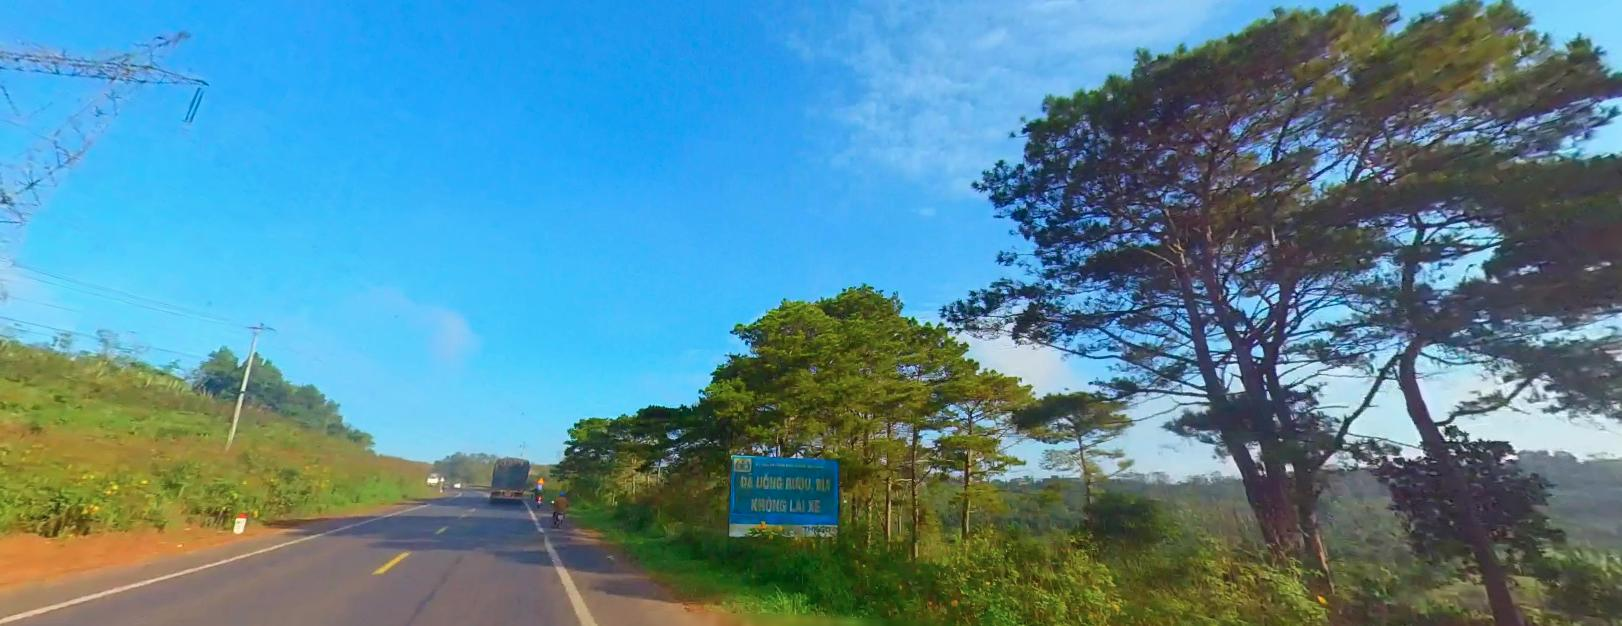Nguy hiem: (536, 476, 545, 483), (536, 476, 543, 482)
